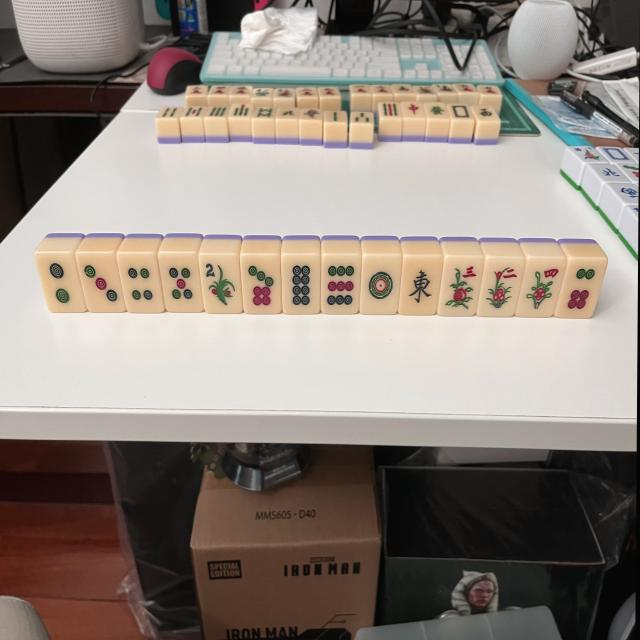1B: (302, 108, 323, 120)
1D: (359, 257, 401, 315)
2B: (325, 110, 347, 123)
2D: (36, 254, 88, 314)
2F: (197, 257, 242, 315)
2S: (476, 260, 524, 318)
3B: (351, 112, 373, 125)
3D: (78, 254, 127, 313)
3S: (437, 258, 483, 316)
4B: (161, 106, 178, 120)
4D: (118, 254, 165, 313)
4S: (514, 260, 564, 318)
5B: (184, 106, 205, 118)
5D: (157, 255, 203, 313)
6B: (208, 104, 227, 120)
6D: (554, 258, 606, 318)
7B: (232, 102, 252, 119)
7D: (242, 256, 284, 313)
8B: (256, 106, 275, 120)
8D: (282, 257, 321, 315)
9B: (380, 101, 403, 119)
9D: (322, 256, 362, 314)
EW: (398, 257, 442, 316)
GD: (428, 103, 452, 121)
NW: (279, 107, 300, 119)
RD: (403, 102, 427, 120)
WD: (448, 104, 474, 121)
WW: (473, 105, 499, 122)
